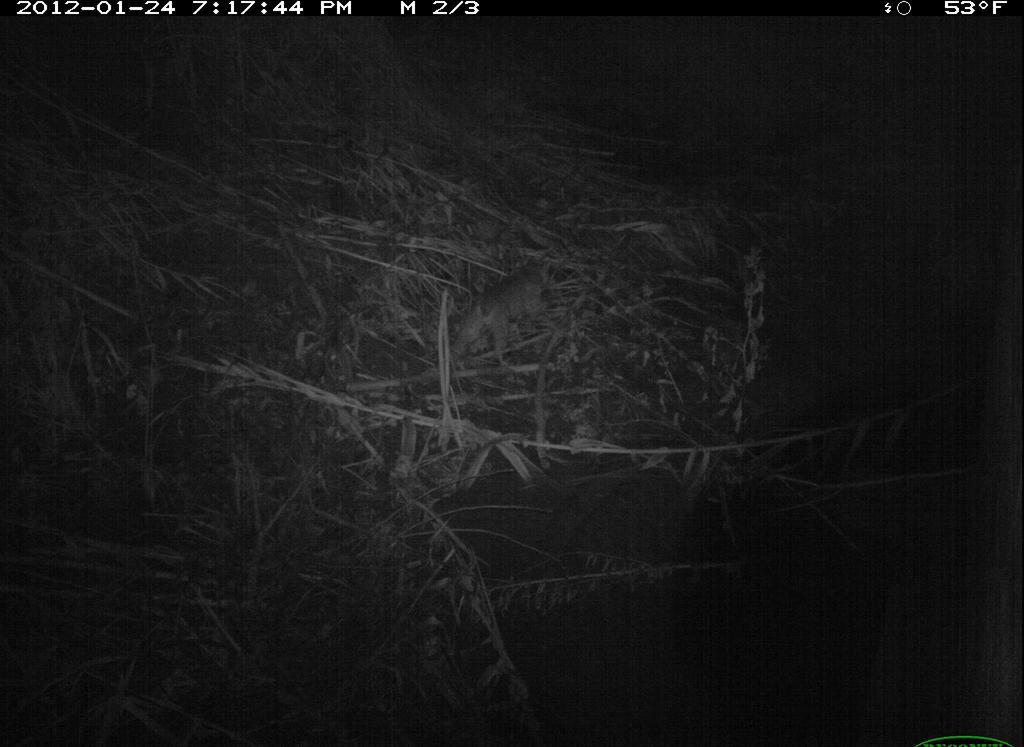bobcat: (413, 264, 559, 410)
